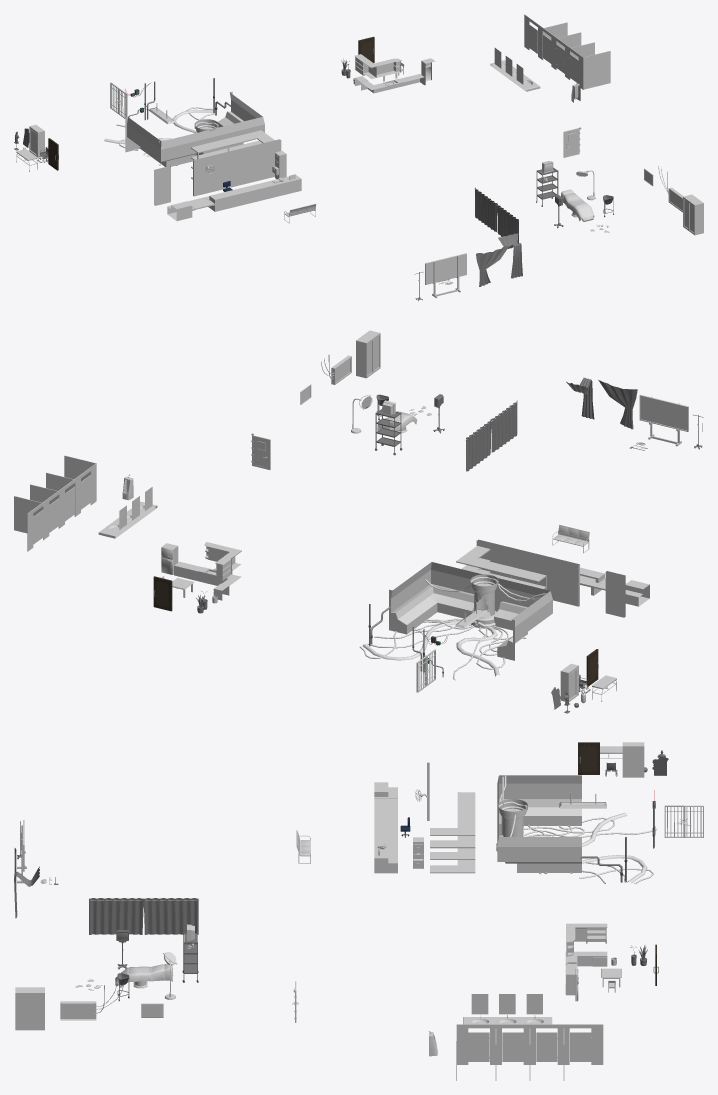
The model's file is 1S_O_UVx_ALL.fbx.
3 views of the same model, one above another, from view 1: azimuth 30°, elevation 25°; view 2: azimuth 150°, elevation 25°; view 3: azimuth 270°, elevation 25° (orthographic). The views are drawn at different scales.
Visible parts, largest first — view 1: 1S_O_FackWall, 1S_O_Dashboard, 1S_O_Partition, 1S_O_Counter, 1S_O_Bord, 1S_O_Sink (×2), 1S_O_StorageDrawer, 1S_O_Curtain2, 1S_O_OperatTable, 1S_O_Cupboard, 1S_O_Case, 1S_O_Curtain4 (+3 smaller); view 2: 1S_O_Dashboard, 1S_O_FackWall, 1S_O_Partition, 1S_O_Bord, 1S_O_Sink (×2), 1S_O_StorageDrawer, 1S_O_Counter, 1S_O_Curtain1, 1S_O_FloorBWire, 1S_O_Curtain2, Line024, 1S_O_Case (+4 smaller); view 3: 1S_O_Dashboard, 1S_O_Partition, 1S_O_PartitionDoor (×4), 1S_O_StorageDrawer, 1S_O_Curtain1, 1S_O_Curtain2, 1S_O_Counter, 1S_O_Case, 1S_O_Mirror, 1S_O_OperatTable, 1S_O_X-ray, 1S_O_VendingMachine (+6 smaller).
Boxes of the visible parts, x1=… form: 1S_O_FackWall: x1=154, y1=139, x2=281, y2=205; 1S_O_Dashboard: x1=125, y1=91, x2=264, y2=166; 1S_O_Partition: x1=524, y1=14, x2=610, y2=89; 1S_O_Counter: x1=167, y1=175, x2=301, y2=220; 1S_O_Bord: x1=425, y1=253, x2=466, y2=298; 1S_O_Sink (×2): x1=361, y1=60, x2=540, y2=93; 1S_O_StorageDrawer: x1=191, y1=130, x2=274, y2=179; 1S_O_Curtain2: x1=475, y1=187, x2=497, y2=231; 1S_O_OperatTable: x1=561, y1=189, x2=594, y2=221; 1S_O_Cupboard: x1=363, y1=58, x2=401, y2=79; 1S_O_Case: x1=683, y1=194, x2=703, y2=235; 1S_O_Curtain4: x1=476, y1=245, x2=509, y2=286; 1S_O_Dashboard: x1=389, y1=562, x2=552, y2=660; 1S_O_FackWall: x1=476, y1=539, x2=625, y2=617; 1S_O_Partition: x1=14, y1=455, x2=96, y2=551; 1S_O_Bord: x1=639, y1=394, x2=688, y2=446; 1S_O_Sink (×2): x1=98, y1=501, x2=241, y2=585; 1S_O_StorageDrawer: x1=456, y1=546, x2=546, y2=589; 1S_O_Counter: x1=580, y1=567, x2=649, y2=606; 1S_O_Curtain1: x1=491, y1=400, x2=517, y2=452; 1S_O_FloorBWire: x1=362, y1=621, x2=499, y2=676; 1S_O_Curtain2: x1=466, y1=419, x2=491, y2=471; Line024: x1=359, y1=624, x2=526, y2=680; 1S_O_Case: x1=356, y1=330, x2=380, y2=378; 1S_O_Dashboard: x1=497, y1=775, x2=581, y2=872; 1S_O_Partition: x1=456, y1=1024, x2=603, y2=1080; 1S_O_PartitionDoor (×4): x1=468, y1=1032, x2=591, y2=1061; 1S_O_StorageDrawer: x1=430, y1=792, x2=475, y2=873; 1S_O_Curtain1: x1=89, y1=898, x2=143, y2=934; 1S_O_Curtain2: x1=143, y1=898, x2=198, y2=934; 1S_O_Counter: x1=374, y1=782, x2=397, y2=873; 1S_O_Case: x1=15, y1=987, x2=44, y2=1030; 1S_O_Mirror: x1=471, y1=994, x2=542, y2=1014; 1S_O_OperatTable: x1=115, y1=963, x2=173, y2=988; 1S_O_X-ray: x1=60, y1=984, x2=123, y2=1020; 1S_O_VendingMachine: x1=622, y1=742, x2=644, y2=777.
Size of the model in its own units: 960 by 75.04 by 873.
